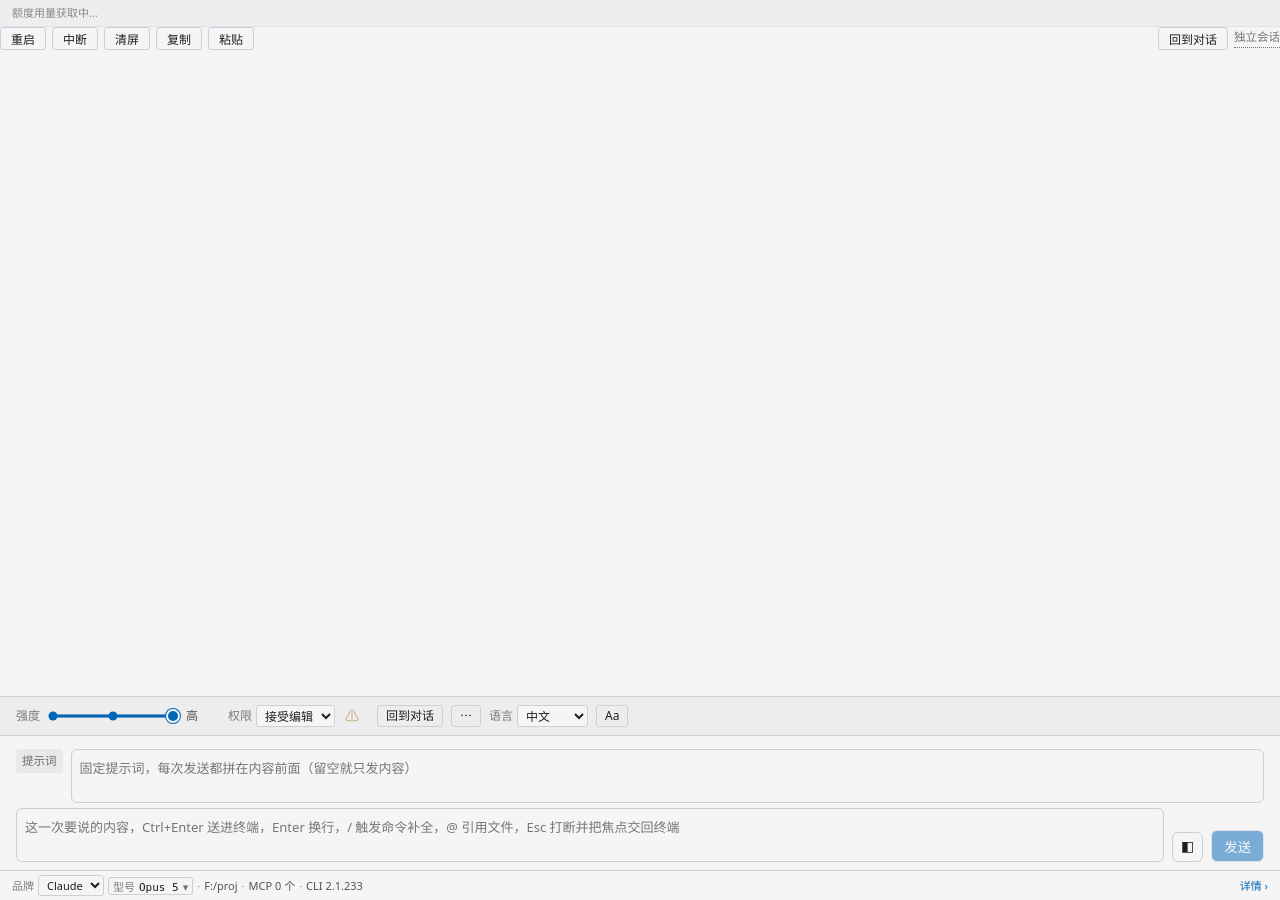
Scenario: App：额度用量条 › 会话起来后点详情真的开 status 面板且不卡在加载态
The width and height of the screenshot is (1280, 900).
Step 1. Click the button "详情 ›" → {"x": 1254, "y": 886}, box [1240,877,1268,894]
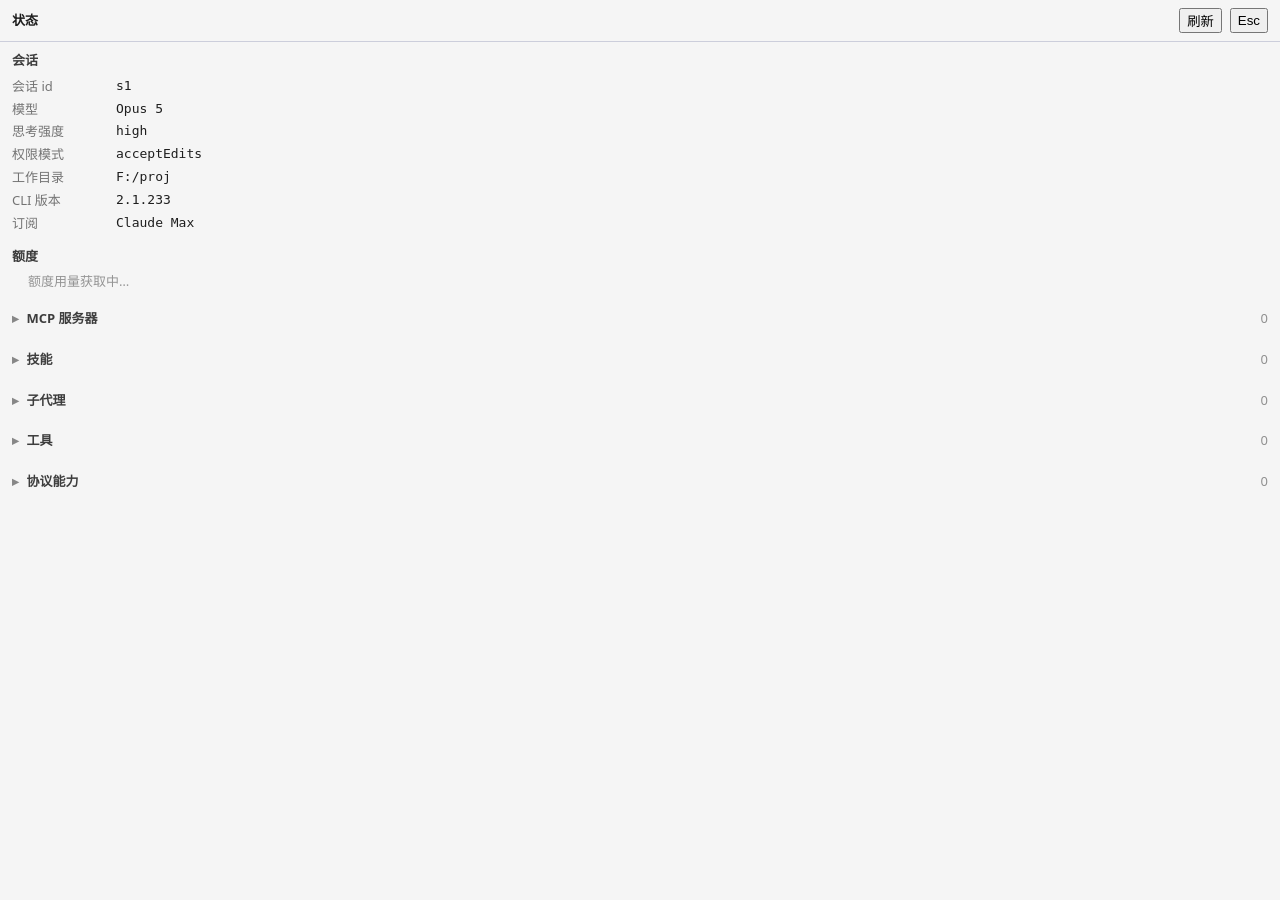
Now the text "s1" is shown, box [116,78,132,93]
